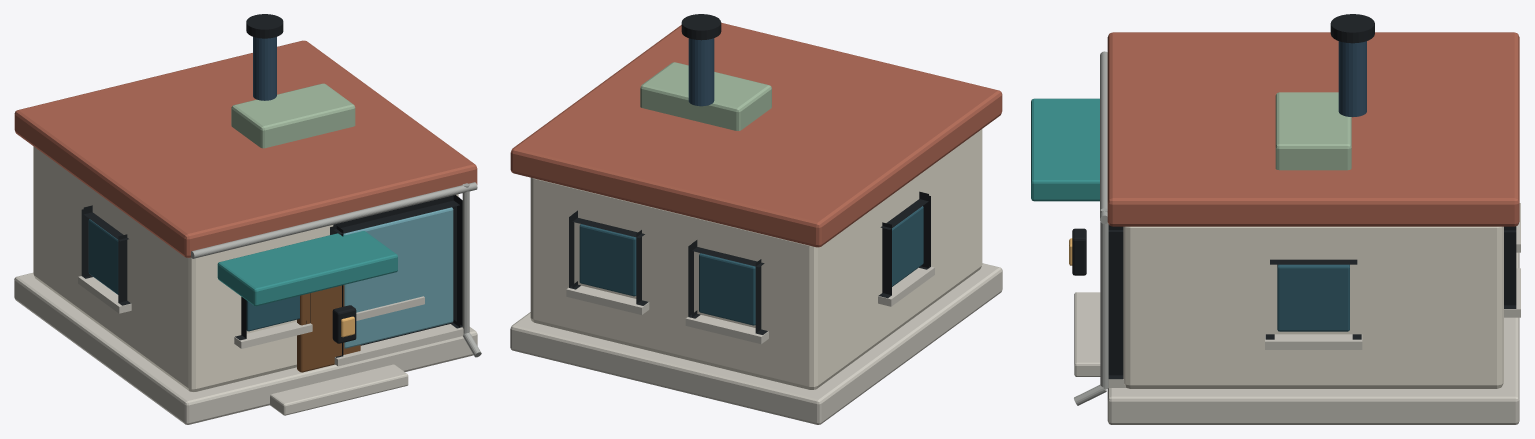
The model's file is RES_LOW_1x1_008.glb.
3 views of the same model, side by side, from view 1: azimuth 30°, elevation 25°; view 2: azimuth 150°, elevation 25°; view 3: azimuth 270°, elevation 25° (orthographic). The views are drawn at different scales.
Parts seen in each view (by area): view 1: RES_LOW_1x1_008_Visual; view 2: RES_LOW_1x1_008_Visual; view 3: RES_LOW_1x1_008_Visual.
Part boxes in pixels (<box>): RES_LOW_1x1_008_Visual: <box>14,14,481,424</box>; RES_LOW_1x1_008_Visual: <box>510,14,1002,424</box>; RES_LOW_1x1_008_Visual: <box>1031,14,1520,424</box>.
Size of what is drawn, in the model's own units: 1.55 by 1.44 by 1.88.
